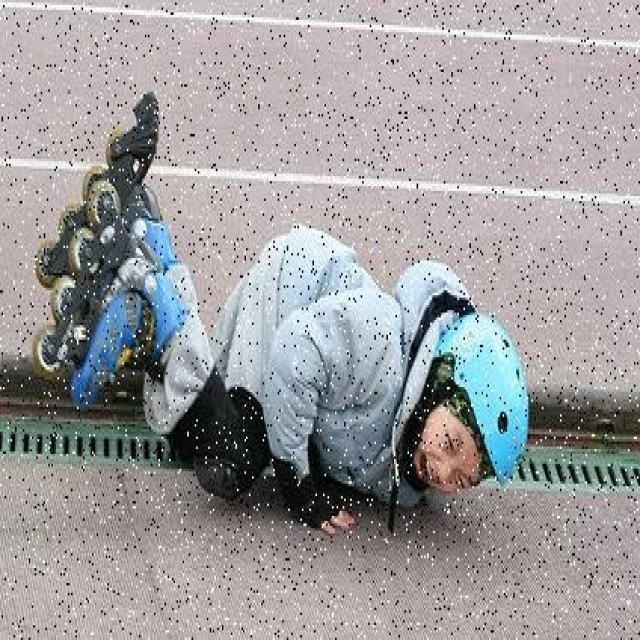fall: (148, 226, 525, 514)
